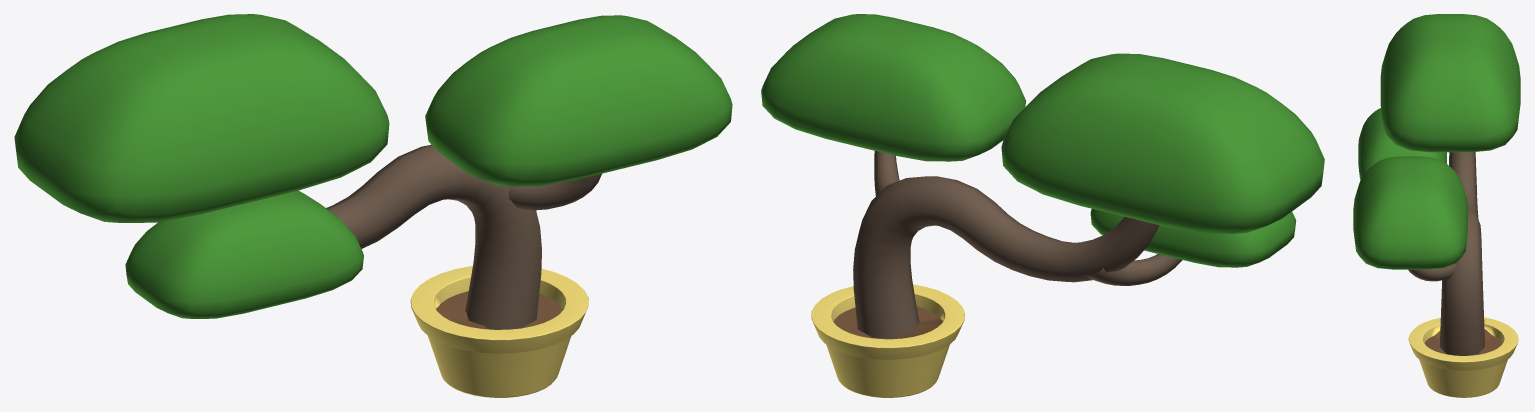
Rendered from Vase_4.glb.
The picture shows the model from 3 angles, left to right: view 1: azimuth 30°, elevation 25°; view 2: azimuth 150°, elevation 25°; view 3: azimuth 270°, elevation 25°; orthographic projection. The views are drawn at different scales.
Parts seen in each view (by area): view 1: Tree_1; view 2: Tree_1; view 3: Tree_1.
Boxes of the visible parts, box(x1,y1,x2,y2) form: Tree_1: box(14, 14, 732, 397); Tree_1: box(761, 14, 1324, 397); Tree_1: box(1353, 14, 1520, 397).
Bounding box in the file's own units: 5.55 × 3.5 × 2.05.
Materials: 1 (1 with a texture image).
